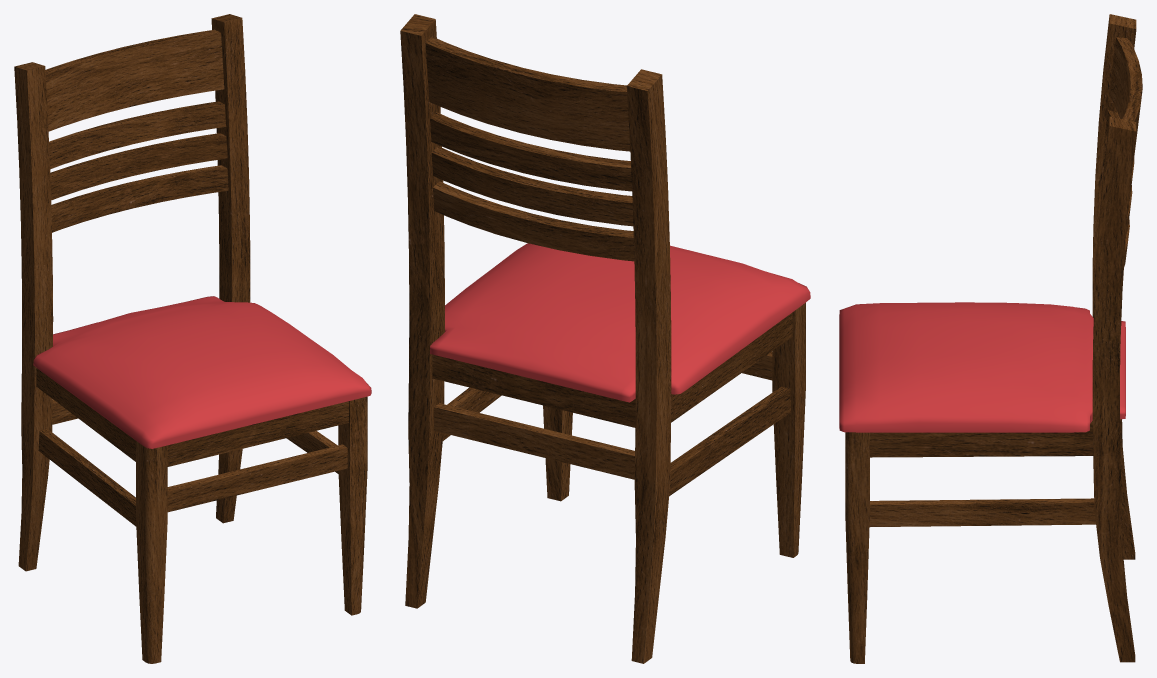
The model's file is sillaRestaurante.obj.
3 renders of one model, left to right at view 1: azimuth 30°, elevation 25°; view 2: azimuth 150°, elevation 25°; view 3: azimuth 270°, elevation 25°, orthographic. The views are drawn at different scales.
Parts seen in each view (by area): view 1: Silla:Chair_1_Low; view 2: Silla:Chair_1_Low; view 3: Silla:Chair_1_Low.
Part boxes in pixels (x1=…): Silla:Chair_1_Low: x1=14, y1=14, x2=371, y2=663; Silla:Chair_1_Low: x1=400, y1=14, x2=810, y2=663; Silla:Chair_1_Low: x1=839, y1=14, x2=1142, y2=663.
Bounding box in the file's own units: 1.35 × 2.88 × 1.47.
